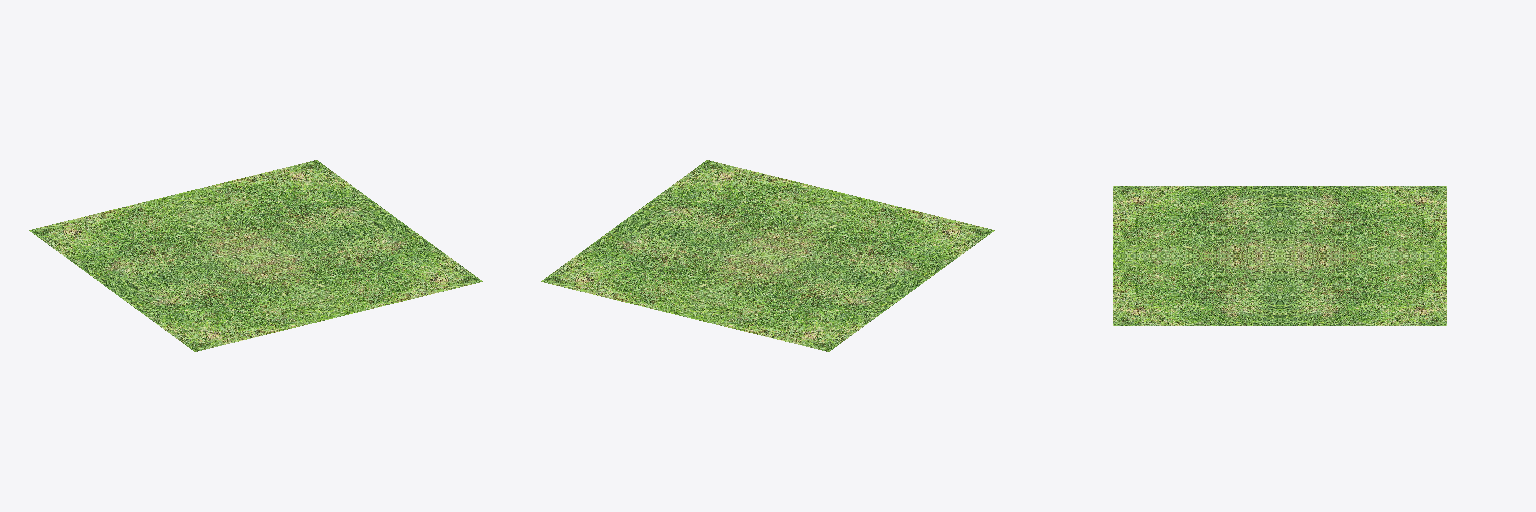
3 views of the same model, side by side, from view 1: azimuth 30°, elevation 25°; view 2: azimuth 150°, elevation 25°; view 3: azimuth 270°, elevation 25° (orthographic).
Parts seen in each view (by area): view 1: Grass; view 2: Grass; view 3: Grass.
Part boxes in pixels (left/top/right/bottom): Grass: left=29, top=160, right=482, bottom=351; Grass: left=541, top=160, right=994, bottom=351; Grass: left=1113, top=186, right=1446, bottom=325.
Bounding box in the file's own units: 1 × 0 × 1.
1 materials, 1 textured.